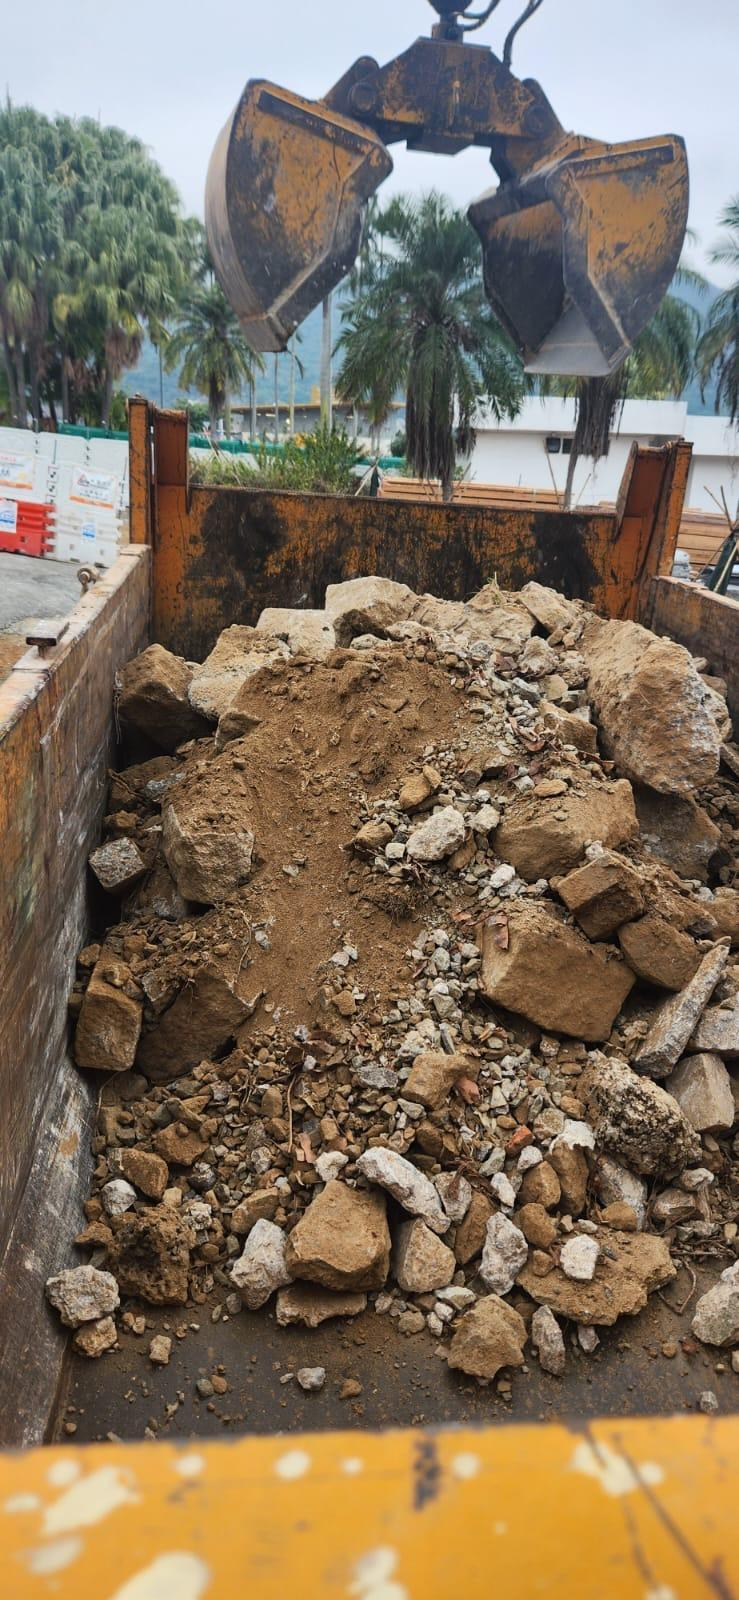dirt: (46, 574, 737, 1442)
stone: (477, 902, 636, 1043), (489, 773, 640, 882), (284, 1178, 392, 1292), (354, 1145, 451, 1233), (446, 1293, 528, 1381), (228, 1216, 294, 1310), (44, 1263, 120, 1327), (558, 1233, 600, 1280)
